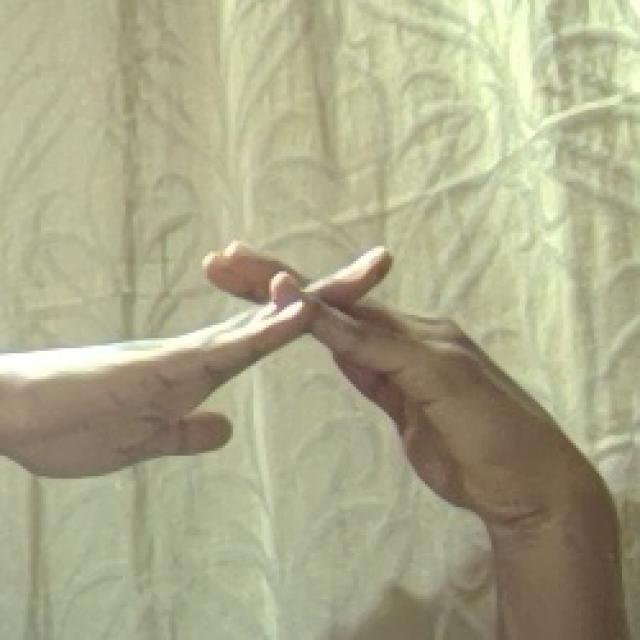Alphabet-W: (25, 148, 512, 534)
